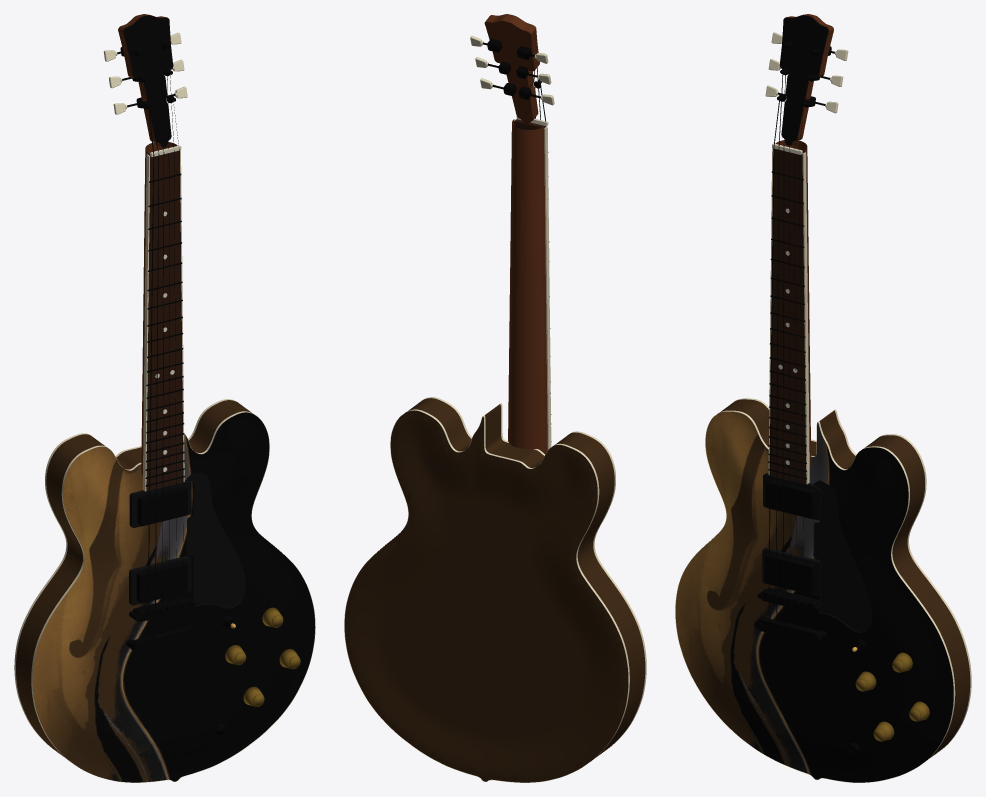
Rendered from weir.glb.
The picture shows the model from 3 angles, left to right: view 1: azimuth 30°, elevation 25°; view 2: azimuth 150°, elevation 25°; view 3: azimuth 330°, elevation 25°; orthographic projection. The views are drawn at different scales.
Visible parts, largest first — view 1: weir; view 2: weir; view 3: weir.
Boxes of the visible parts, x1=… form: weir: x1=14, y1=14, x2=315, y2=782; weir: x1=344, y1=14, x2=646, y2=782; weir: x1=675, y1=14, x2=971, y2=782.
Bounding box in the file's own units: 0.4073 × 1.05 × 0.0788.
Materials: 1 (1 with a texture image).
